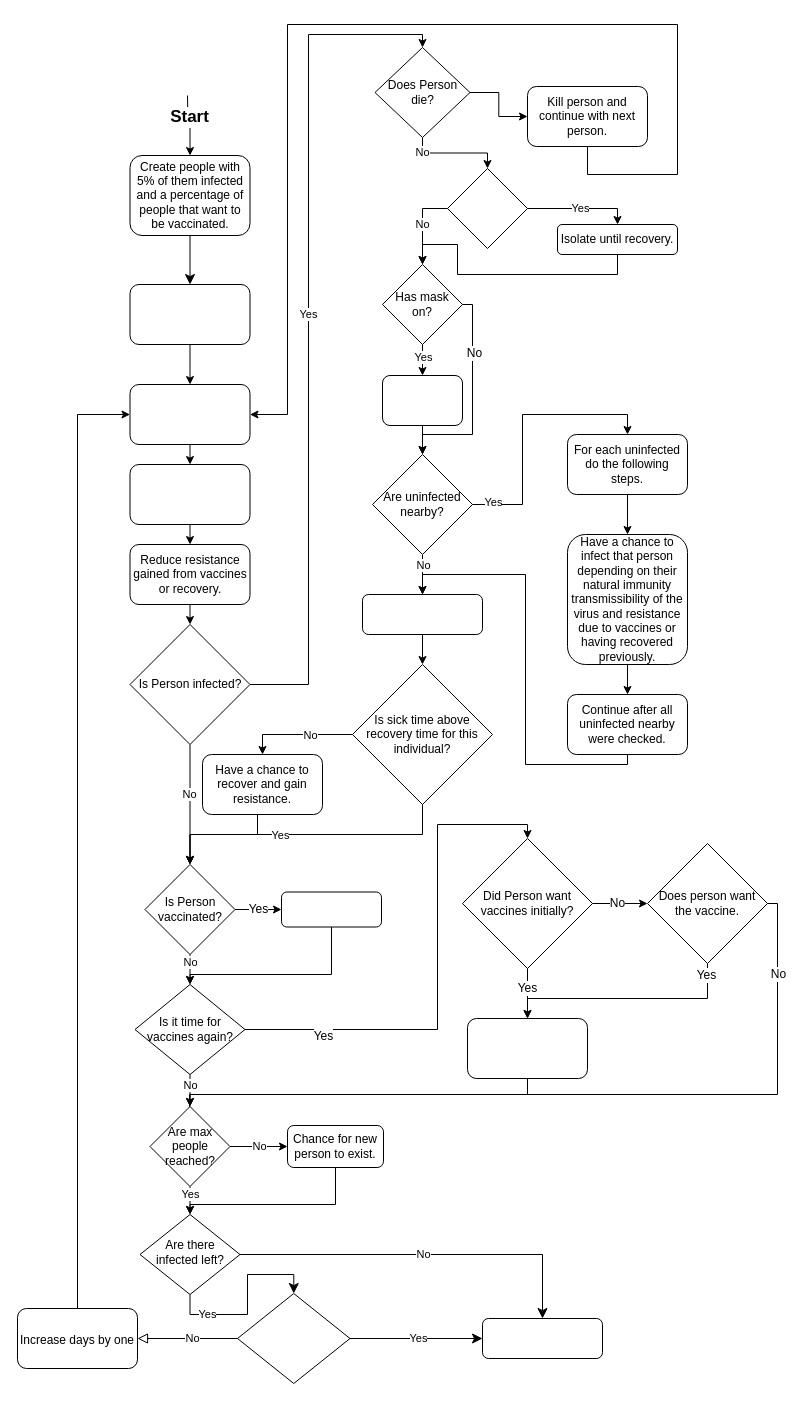
Image size: 803x1401. Some labels were removed from this diagram. The shapes that lost their labels are listed below. From the top down, each one's box as (x1, y1, x2, y2) in pixels, then its label:
(446, 168, 528, 248): Is sick for two days?
(129, 284, 250, 344): Give a percentage of people masks.
(129, 384, 250, 444): For each person do the following steps.
(382, 374, 462, 426): Reduce spreading chance.
(129, 464, 250, 524): Move around a bit.
(362, 594, 482, 634): Increase the sick time.
(280, 891, 382, 927): Reduce recovery time benefit.
(466, 1018, 588, 1078): Give additional resistance and reduce recovery time.
(236, 1292, 350, 1384): Did 1100 days pass?
(482, 1318, 602, 1358): Stop
